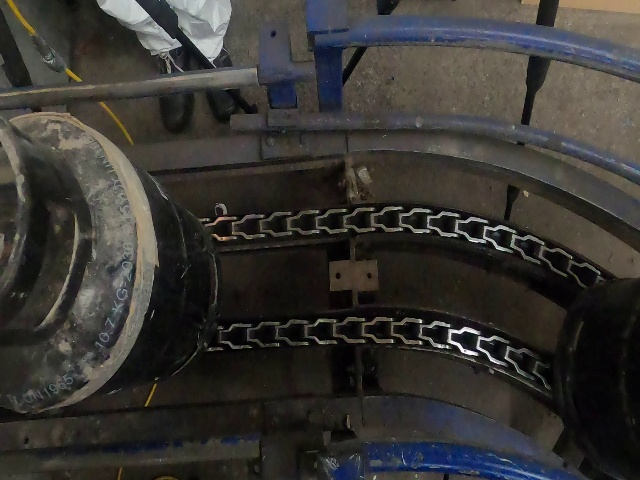gas_bottle: (4, 5, 640, 476)
